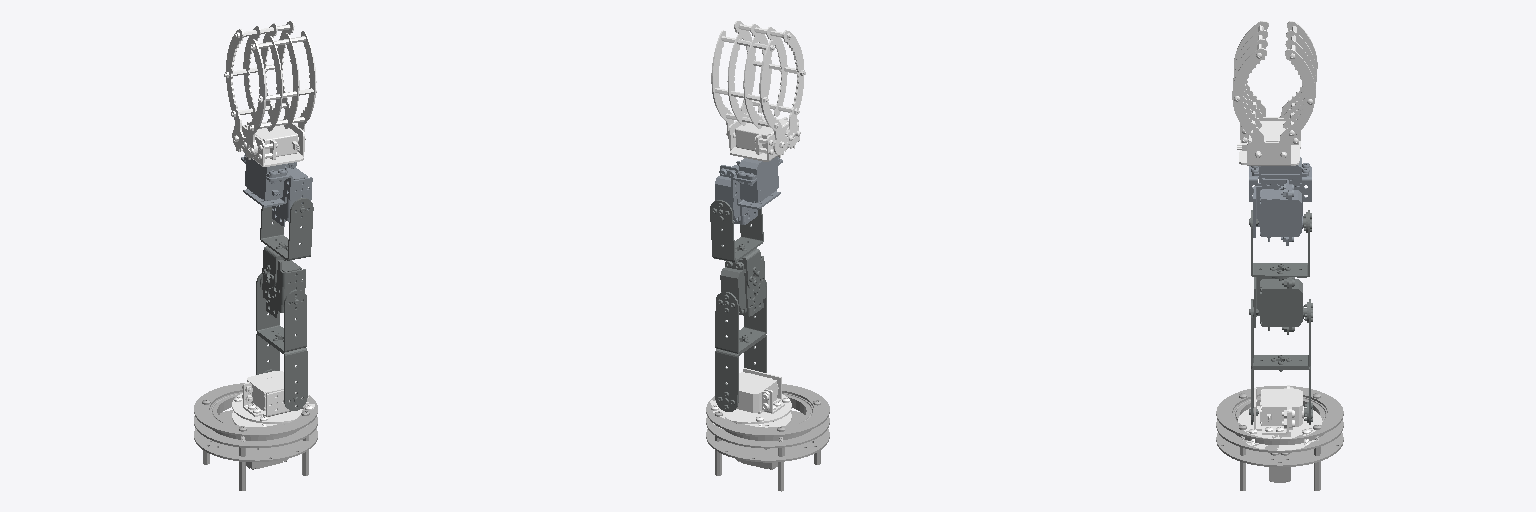
robot.urdf — arm_new.SLDASM:
<?xml version="1.0" encoding="utf-8"?>
<!-- This URDF was automatically created by SolidWorks to URDF Exporter! Originally created by Stephen Brawner (brawner@gmail.com) 
     Commit Version: 1.6.0-4-g7f85cfe  Build Version: 1.6.7995.38578
     For more information, please see http://wiki.ros.org/sw_urdf_exporter -->
<robot
  name="arm_new.SLDASM">
  <link
    name="base_link">
    <inertial>
      <origin
        xyz="0.00674901458641119 1.3637203785874E-06 0.037181437318584"
        rpy="0 0 0" />
      <mass
        value="0.102939443873572" />
      <inertia
        ixx="7.70995931544117E-05"
        ixy="-1.05294597233132E-10"
        ixz="-6.59383703986737E-09"
        iyy="8.0137431625357E-05"
        iyz="-3.27313263560878E-10"
        izz="0.00014765266141397" />
    </inertial>
    <visual>
      <origin
        xyz="0 0 0"
        rpy="0 0 0" />
      <geometry>
        <mesh
          filename="package://arm_new.SLDASM/meshes/base_link.STL" />
      </geometry>
      <material
        name="">
        <color
          rgba="0.752941176470588 0.752941176470588 0.752941176470588 1" />
      </material>
    </visual>
    <collision>
      <origin
        xyz="0 0 0"
        rpy="0 0 0" />
      <geometry>
        <mesh
          filename="package://arm_new.SLDASM/meshes/base_link.STL" />
      </geometry>
    </collision>
  </link>
  <link
    name="link1">
    <inertial>
      <origin
        xyz="0.000206558187541173 -0.00272628496741393 0.0204760052986934"
        rpy="0 0 0" />
      <mass
        value="0.109676434240321" />
      <inertia
        ixx="2.33000957637928E-05"
        ixy="-5.60338648474201E-09"
        ixz="1.34153231874051E-10"
        iyy="2.83640553421152E-05"
        iyz="1.18892046392732E-06"
        izz="4.41744961510049E-05" />
    </inertial>
    <visual>
      <origin
        xyz="0 0 0"
        rpy="0 0 0" />
      <geometry>
        <mesh
          filename="package://arm_new.SLDASM/meshes/link1.STL" />
      </geometry>
      <material
        name="">
        <color
          rgba="1 1 1 1" />
      </material>
    </visual>
    <collision>
      <origin
        xyz="0 0 0"
        rpy="0 0 0" />
      <geometry>
        <mesh
          filename="package://arm_new.SLDASM/meshes/link1.STL" />
      </geometry>
    </collision>
  </link>
  <joint
    name="joint1"
    type="continuous">
    <origin
      xyz="0.0097091 0 0.045"
      rpy="0 0 -0.0093727" />
    <parent
      link="base_link" />
    <child
      link="link1" />
    <axis
      xyz="0 0 1" />
  </joint>
  <link
    name="link2">
    <inertial>
      <origin
        xyz="-0.000145313756290441 -0.0519676672690918 -0.025428972871196"
        rpy="0 0 0" />
      <mass
        value="0.141985207120718" />
      <inertia
        ixx="0.000122855015154094"
        ixy="-1.18477249287199E-07"
        ixz="5.45581700482995E-15"
        iyy="8.04850515204459E-05"
        iyz="-2.58579729173071E-14"
        izz="5.59823142284108E-05" />
    </inertial>
    <visual>
      <origin
        xyz="0 0 0"
        rpy="0 0 0" />
      <geometry>
        <mesh
          filename="package://arm_new.SLDASM/meshes/link2.STL" />
      </geometry>
      <material
        name="">
        <color
          rgba="0.529411764705882 0.549019607843137 0.549019607843137 1" />
      </material>
    </visual>
    <collision>
      <origin
        xyz="0 0 0"
        rpy="0 0 0" />
      <geometry>
        <mesh
          filename="package://arm_new.SLDASM/meshes/link2.STL" />
      </geometry>
    </collision>
  </link>
  <joint
    name="joint2"
    type="revolute">
    <origin
      xyz="0.010156 0.02714 0.027844"
      rpy="-1.5708 0 0" />
    <parent
      link="link1" />
    <child
      link="link2" />
    <axis
      xyz="0 0 -1" />
    <limit
      lower="0"
      upper="0"
      effort="0"
      velocity="0" />
  </joint>
  <link
    name="link3">
    <inertial>
      <origin
        xyz="-0.00255491746726531 -0.0335983895833309 -0.0305362518689584"
        rpy="0 0 0" />
      <mass
        value="0.181908330591231" />
      <inertia
        ixx="9.33767932170831E-05"
        ixy="9.26668287593644E-07"
        ixz="1.25298676595977E-06"
        iyy="5.78913215936835E-05"
        iyz="3.68147910634975E-07"
        izz="5.22750975540719E-05" />
    </inertial>
    <visual>
      <origin
        xyz="0 0 0"
        rpy="0 0 0" />
      <geometry>
        <mesh
          filename="package://arm_new.SLDASM/meshes/link3.STL" />
      </geometry>
      <material
        name="">
        <color
          rgba="0.529411764705882 0.549019607843137 0.549019607843137 1" />
      </material>
    </visual>
    <collision>
      <origin
        xyz="0 0 0"
        rpy="0 0 0" />
      <geometry>
        <mesh
          filename="package://arm_new.SLDASM/meshes/link3.STL" />
      </geometry>
    </collision>
  </link>
  <joint
    name="joint3"
    type="revolute">
    <origin
      xyz="-0.00029081 -0.104 0"
      rpy="-0.066221 0 0.057239" />
    <parent
      link="link2" />
    <child
      link="link3" />
    <axis
      xyz="0 0.066173 -0.99781" />
    <limit
      lower="0"
      upper="0"
      effort="0"
      velocity="0" />
  </joint>
  <link
    name="link4">
    <inertial>
      <origin
        xyz="-0.0138399837035622 -0.0166413453673281 -0.0296488314214483"
        rpy="0 0 0" />
      <mass
        value="0.174126209376649" />
      <inertia
        ixx="5.68545673225311E-05"
        ixy="1.10776559674341E-06"
        ixz="1.26513119255392E-06"
        iyy="3.58042308379922E-05"
        iyz="-1.16995810055621E-08"
        izz="3.58011135582648E-05" />
    </inertial>
    <visual>
      <origin
        xyz="0 0 0"
        rpy="0 0 0" />
      <geometry>
        <mesh
          filename="package://arm_new.SLDASM/meshes/link4.STL" />
      </geometry>
      <material
        name="">
        <color
          rgba="0.615686274509804 0.643137254901961 0.674509803921569 1" />
      </material>
    </visual>
    <collision>
      <origin
        xyz="0 0 0"
        rpy="0 0 0" />
      <geometry>
        <mesh
          filename="package://arm_new.SLDASM/meshes/link4.STL" />
      </geometry>
    </collision>
  </link>
  <joint
    name="joint4"
    type="revolute">
    <origin
      xyz="0.0011556 -0.096157 -0.006878"
      rpy="0 0 0" />
    <parent
      link="link3" />
    <child
      link="link4" />
    <axis
      xyz="0 0.066173 -0.99781" />
    <limit
      lower="0"
      upper="0"
      effort="0"
      velocity="0" />
  </joint>
  <link
    name="link5">
    <inertial>
      <origin
        xyz="-0.00258500021190627 0.00015215182136142 0.00920435303236824"
        rpy="0 0 0" />
      <mass
        value="0.118758332571116" />
      <inertia
        ixx="2.8776211403753E-05"
        ixy="6.02946171120417E-07"
        ixz="3.72699176342481E-07"
        iyy="3.71597316607864E-05"
        iyz="-2.00983851868258E-07"
        izz="5.43768891047237E-05" />
    </inertial>
    <visual>
      <origin
        xyz="0 0 0"
        rpy="0 0 0" />
      <geometry>
        <mesh
          filename="package://arm_new.SLDASM/meshes/link5.STL" />
      </geometry>
      <material
        name="">
        <color
          rgba="1 1 1 1" />
      </material>
    </visual>
    <collision>
      <origin
        xyz="0 0 0"
        rpy="0 0 0" />
      <geometry>
        <mesh
          filename="package://arm_new.SLDASM/meshes/link5.STL" />
      </geometry>
    </collision>
  </link>
  <joint
    name="joint5"
    type="revolute">
    <origin
      xyz="-0.027689 -0.055272 -0.040046"
      rpy="1.637 0.023059 0.0015295" />
    <parent
      link="link4" />
    <child
      link="link5" />
    <axis
      xyz="0 0 -1" />
    <limit
      lower="0"
      upper="0"
      effort="0"
      velocity="0" />
  </joint>
  <link
    name="end link1">
    <inertial>
      <origin
        xyz="0.00718582121771046 -0.0253840870847898 -0.049695024127474"
        rpy="0 0 0" />
      <mass
        value="0.0323957947319036" />
      <inertia
        ixx="9.38967026291812E-06"
        ixy="2.08797889711467E-08"
        ixz="3.6411422366413E-07"
        iyy="9.2913212106189E-06"
        iyz="-4.57411714686167E-07"
        izz="1.33771300627285E-06" />
    </inertial>
    <visual>
      <origin
        xyz="0 0 0"
        rpy="0 0 0" />
      <geometry>
        <mesh
          filename="package://arm_new.SLDASM/meshes/end link1.STL" />
      </geometry>
      <material
        name="">
        <color
          rgba="1 1 1 1" />
      </material>
    </visual>
    <collision>
      <origin
        xyz="0 0 0"
        rpy="0 0 0" />
      <geometry>
        <mesh
          filename="package://arm_new.SLDASM/meshes/end link1.STL" />
      </geometry>
    </collision>
  </link>
  <joint
    name="end joint1"
    type="revolute">
    <origin
      xyz="-0.0284 -0.01 0.0145"
      rpy="-3.0843 0 -1.5708" />
    <parent
      link="link5" />
    <child
      link="end link1" />
    <axis
      xyz="0 -0.99836 0.057228" />
    <limit
      lower="0"
      upper="0"
      effort="0"
      velocity="0" />
  </joint>
  <link
    name="end link2">
    <inertial>
      <origin
        xyz="-0.0124376927385295 0.0536308043118275 -0.0239621011353097"
        rpy="0 0 0" />
      <mass
        value="0.030639250726905" />
      <inertia
        ixx="9.41362788544018E-06"
        ixy="1.09047534215552E-06"
        ixz="8.4949662942855E-12"
        iyy="1.39108544969861E-06"
        iyz="7.42555435383586E-12"
        izz="9.42030395422209E-06" />
    </inertial>
    <visual>
      <origin
        xyz="0 0 0"
        rpy="0 0 0" />
      <geometry>
        <mesh
          filename="package://arm_new.SLDASM/meshes/end link2.STL" />
      </geometry>
      <material
        name="">
        <color
          rgba="1 1 1 1" />
      </material>
    </visual>
    <collision>
      <origin
        xyz="0 0 0"
        rpy="0 0 0" />
      <geometry>
        <mesh
          filename="package://arm_new.SLDASM/meshes/end link2.STL" />
      </geometry>
    </collision>
  </link>
  <joint
    name="end joint2"
    type="revolute">
    <origin
      xyz="-0.0274 0.014 0.0145"
      rpy="1.5708 -0.00021712 -1.5708" />
    <parent
      link="link5" />
    <child
      link="end link2" />
    <axis
      xyz="0 0 -1" />
    <limit
      lower="0"
      upper="0"
      effort="0"
      velocity="0" />
    <mimic
      joint="end joint1"
      multiplier="-1"
      offset="0" />
  </joint>
</robot>

--- Render facts (derived) ---
3 views of the same robot in one strip: view 1: azimuth 30°, elevation 25°; view 2: azimuth 150°, elevation 25°; view 3: azimuth 270°, elevation 25° (orthographic).
Model arm_new.SLDASM with 8 links and 7 joints (6 revolute, 1 continuous), rooted at base_link, posed all joints at 0.
Links seen in each view (by area): view 1: base_link, link2, link3, end link1, link4, link1, end link2, link5; view 2: base_link, link3, link2, end link2, link4, link1, end link1, link5; view 3: base_link, link4, link3, link1, end link1, end link2, link5, link2.
Link boxes in pixels (x1,y1,x2,y2): base_link: (194,383,317,490); link2: (256,273,307,410); link3: (260,198,313,318); end link1: (243,31,316,159); link4: (241,153,312,226); link1: (232,371,314,426); end link2: (224,21,294,151); link5: (242,120,304,166); base_link: (706,384,829,491); link3: (710,200,765,316); link2: (715,282,766,411); end link2: (711,30,787,157); link4: (715,156,782,224); link1: (710,368,791,428); end link1: (734,21,805,148); link5: (729,113,799,161); base_link: (1216,386,1343,490); link4: (1249,157,1311,245); link3: (1249,210,1311,334); link1: (1237,385,1322,450); end link1: (1232,21,1268,158); end link2: (1278,21,1317,158); link5: (1237,117,1300,165); link2: (1249,299,1312,424).
Size in the robot's own frame: 0.12 by 0.12 by 0.4654 metres.
Meshes: 8 distinct files referenced, 8 mesh visuals loaded (8 binary STL).
